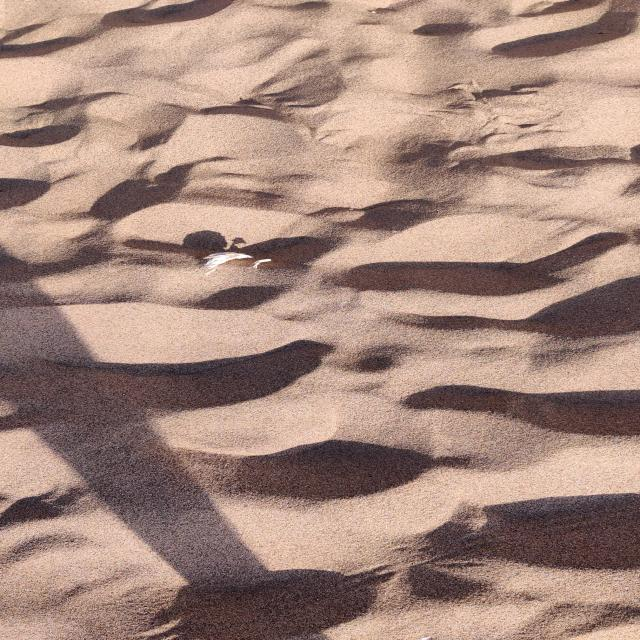litter: (198, 251, 258, 272)
